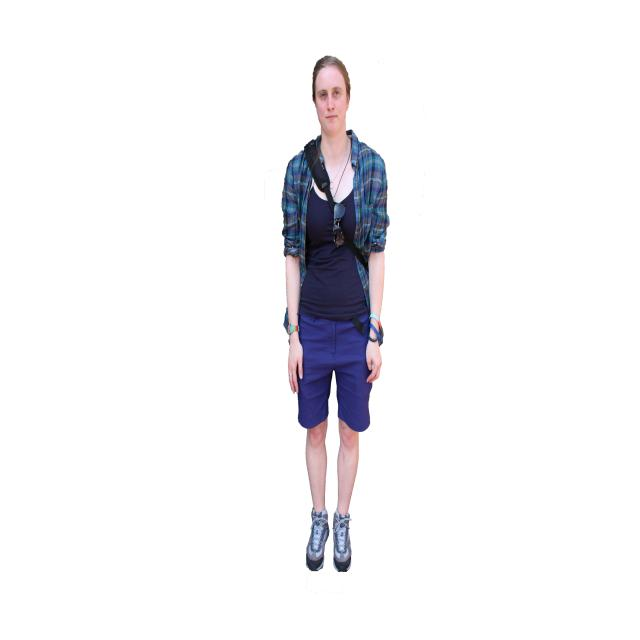jovem: (277, 54, 403, 575)
